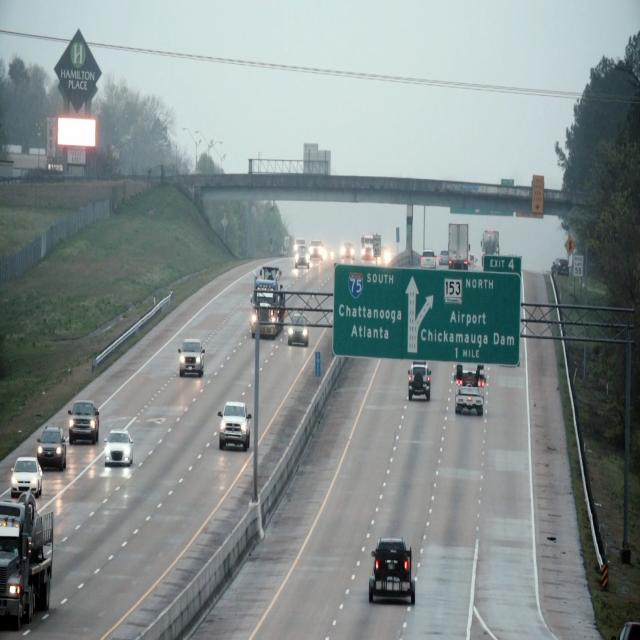Car: (371, 540, 418, 608), (253, 279, 285, 337), (454, 363, 487, 419), (216, 403, 252, 454), (68, 397, 99, 443), (11, 456, 43, 500), (40, 424, 67, 473), (106, 432, 136, 470), (407, 359, 432, 402), (178, 338, 205, 377), (288, 313, 310, 349)
